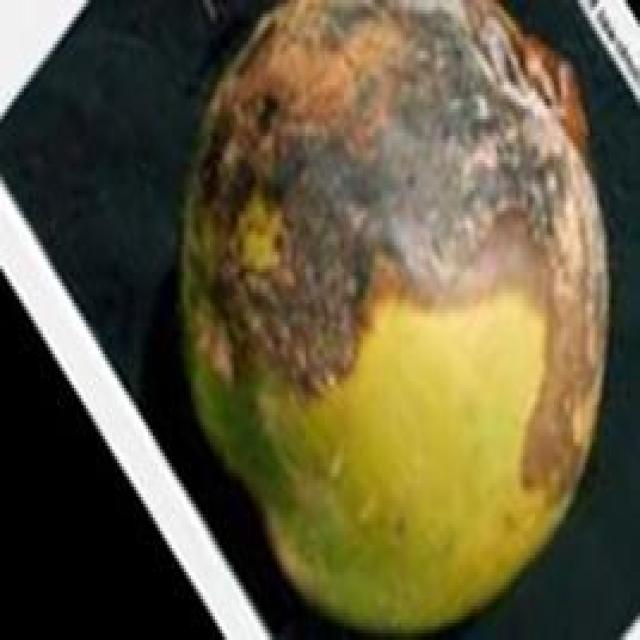damaged: (174, 3, 614, 637)
